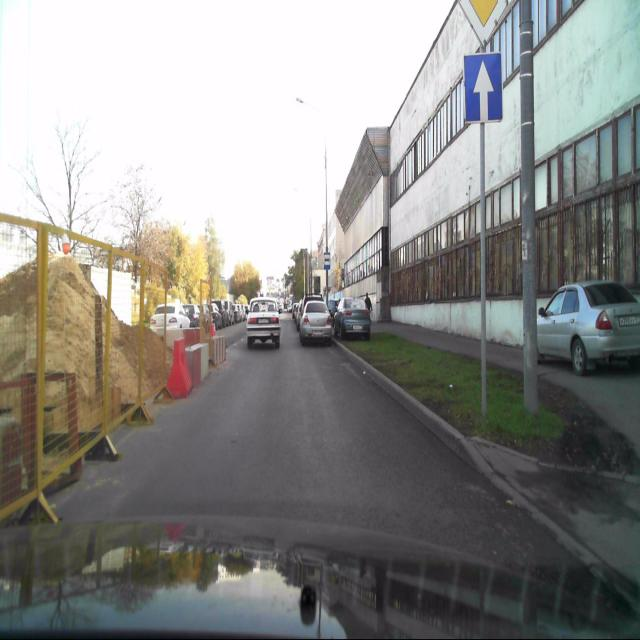object: (480, 121, 488, 419)
road sign: (462, 52, 503, 122)
